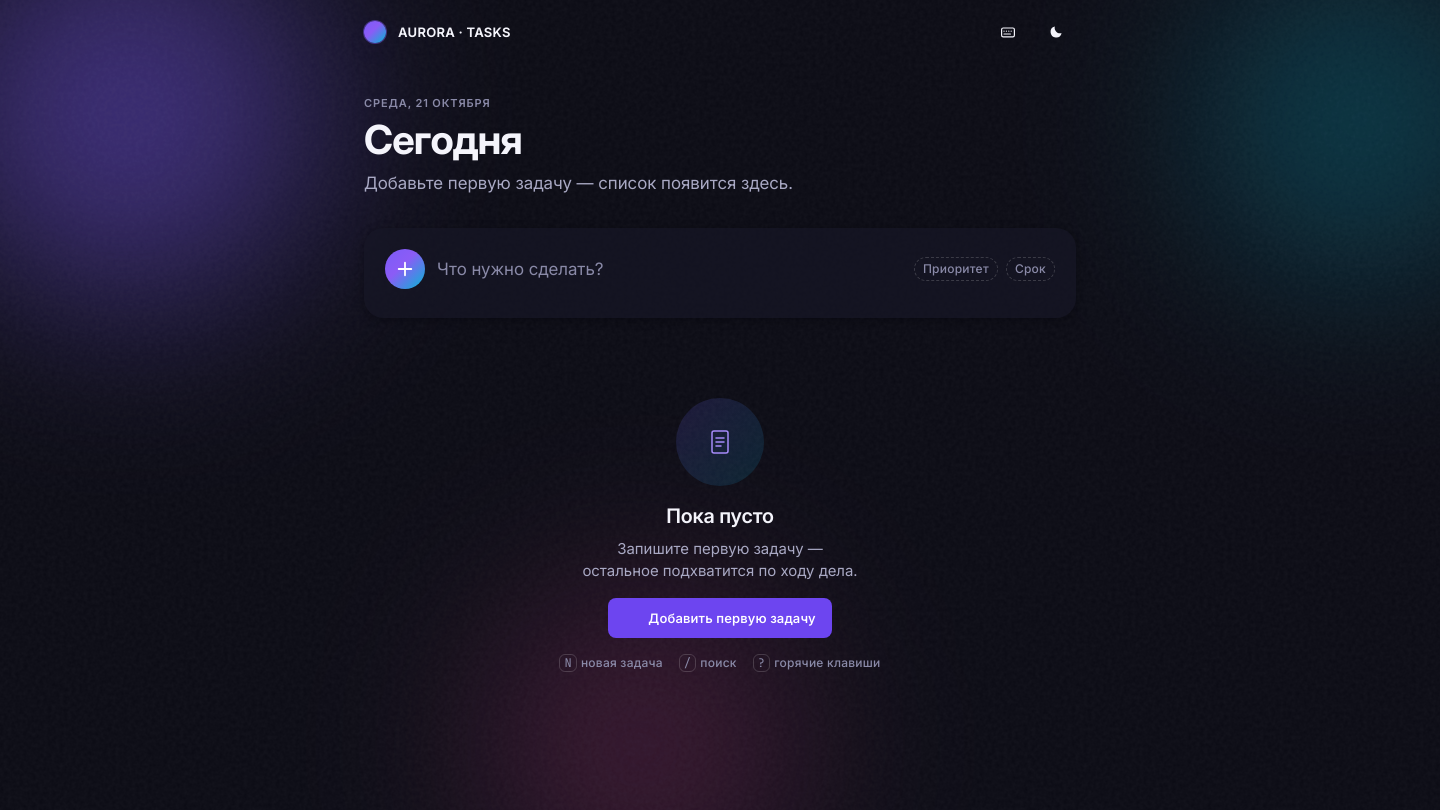
App › design-spec §7: SearchField's clear icon and EmptyState's "Очистить поиск" never share an accessible name
The image size is (1440, 810).
Type "Купить молоко" into the text box named "Текст новой задачи" at (669, 269), box [437, 256, 902, 282]
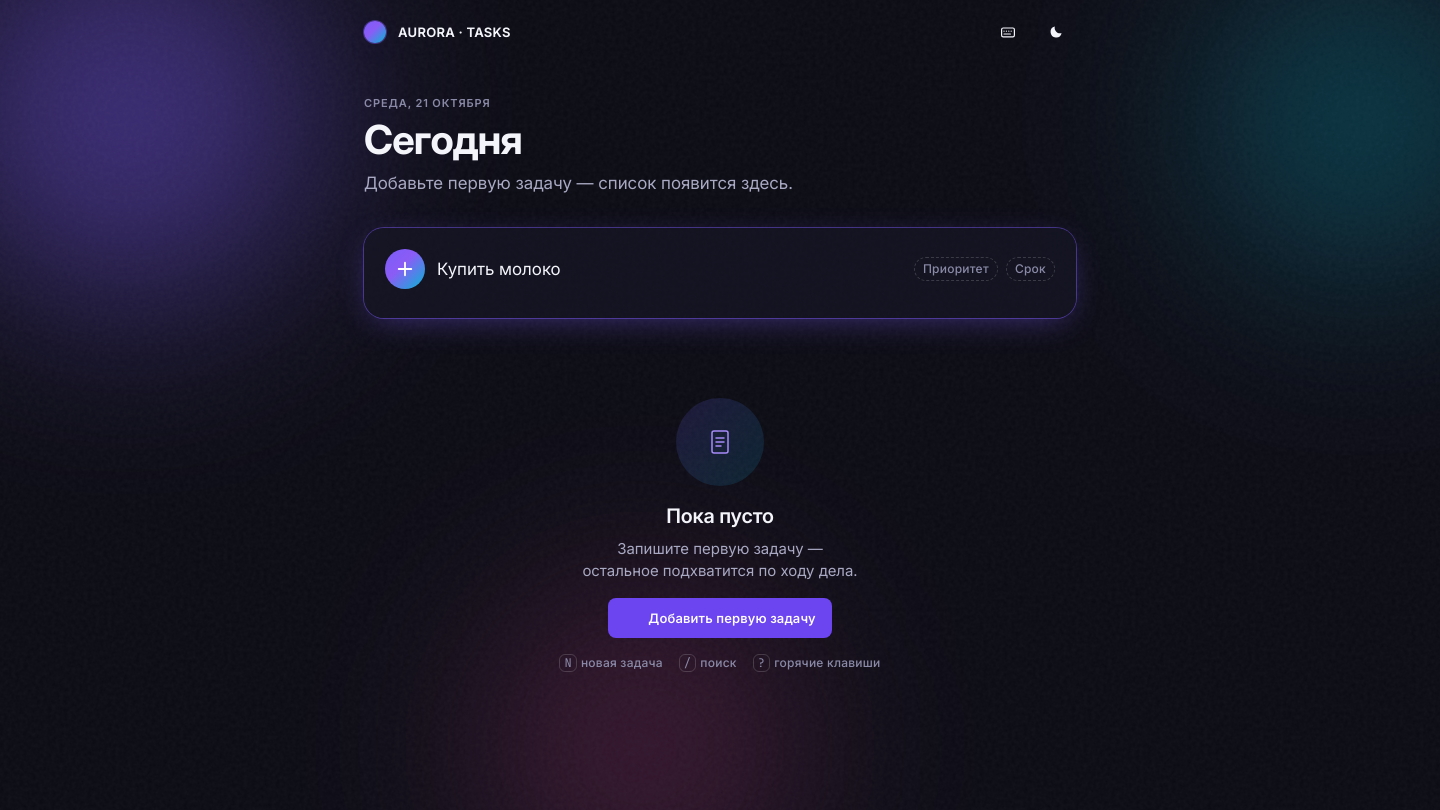
Click the button named "Добавить задачу в список" at (405, 269), box [385, 249, 425, 289]
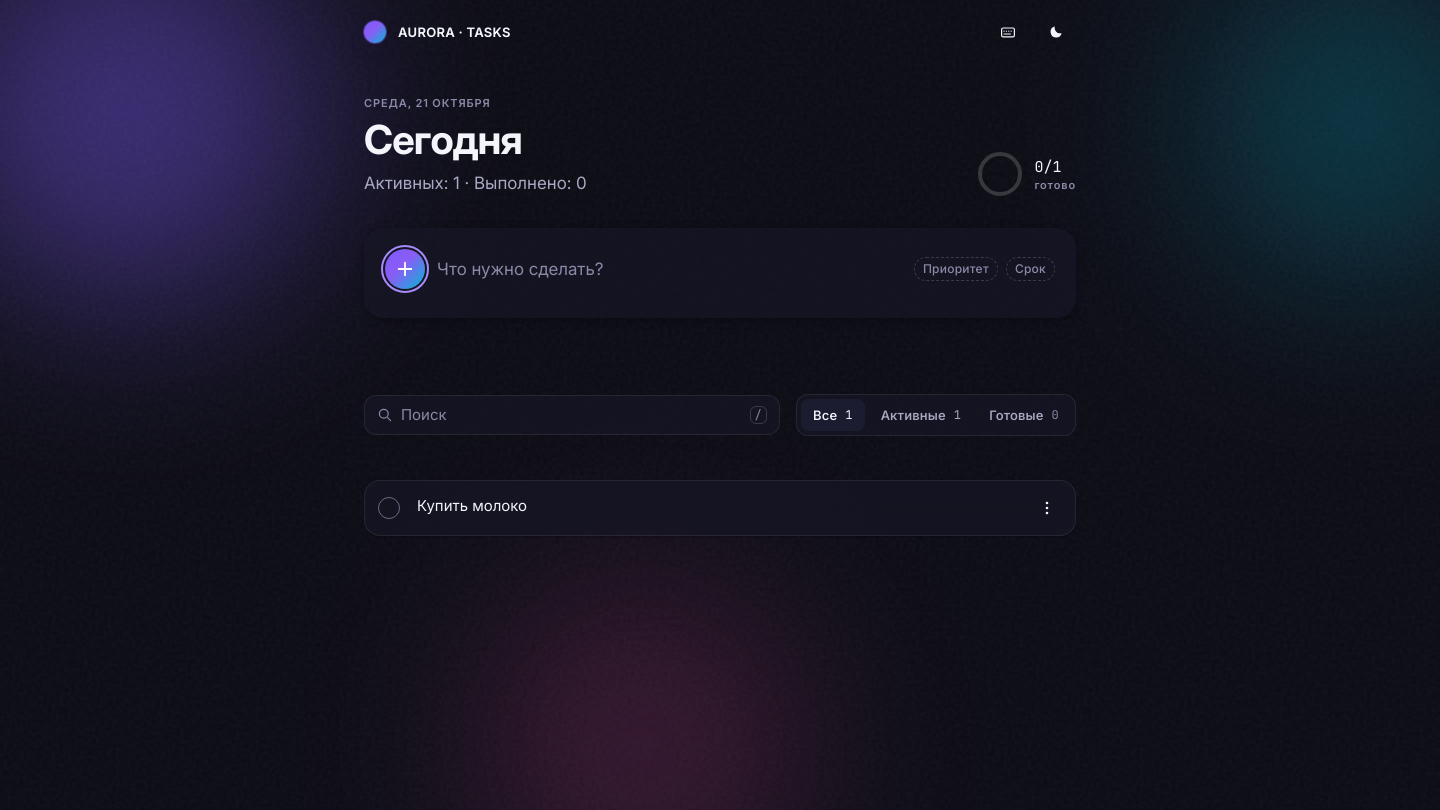
Type "контракт" into the search field at (571, 415), box [401, 404, 742, 426]
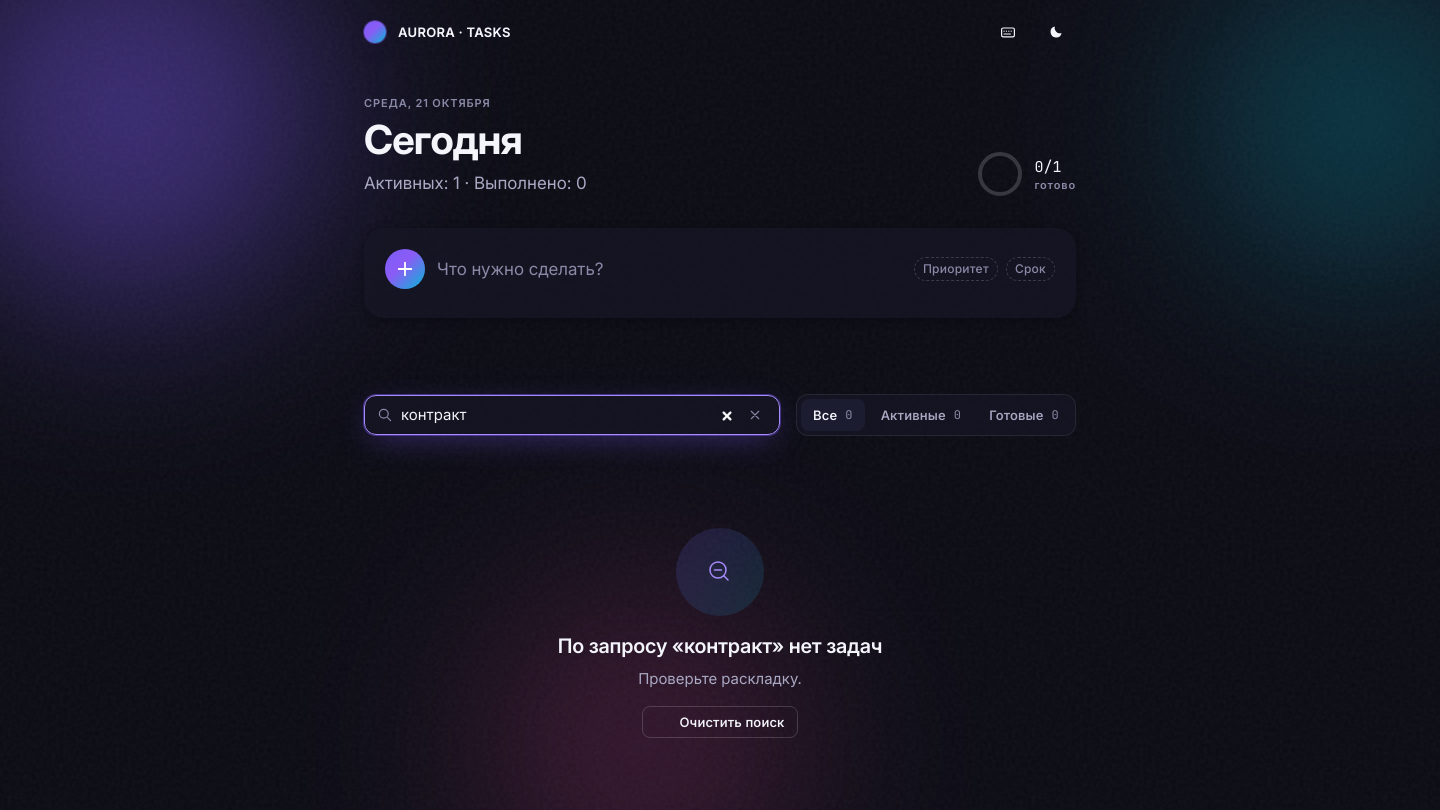
Result: the heading "По запросу «контракт» нет задач" is shown at [558, 632, 882, 660]
Result: the number of buttons "Очистить поиск" is 1 at [642, 706, 798, 738]
Result: the button named "Очистить поле" is shown at [743, 403, 767, 427]
